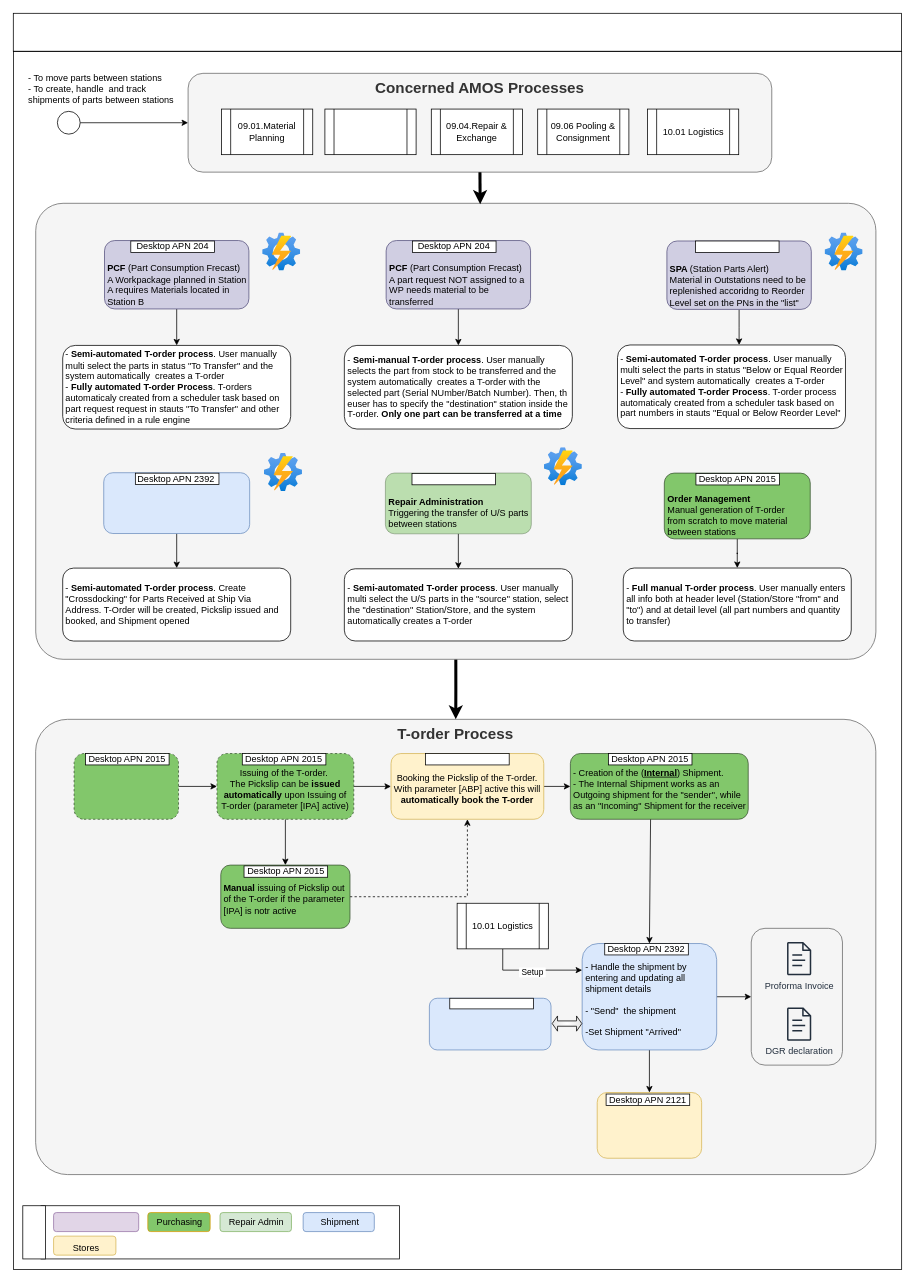
The diagram is 915 pixels wide and 1283 high, and some of its shapes have lost their labels. Each missing label, with the box of its shape:
09.03.Ordering: (324, 108, 416, 155)
09.07 Outstations & MRO's: (13, 13, 902, 51)
Creation ot the T-order: (73, 753, 179, 819)
Desktop APN 1208: (449, 998, 533, 1009)
Desktop APN 1431: (411, 473, 496, 485)
Desktop APN 2612: (425, 753, 509, 765)
Desktop APN 313: (695, 240, 779, 252)
LEGEND: (22, 1205, 46, 1259)
Material Planning: (53, 1212, 139, 1232)
Receiving of T-order: (596, 1092, 702, 1158)
Shipment Tracking to track and get an overview of all shipments: (429, 998, 551, 1050)
Shipment Transfer of parts between stations received via "cross docking" process: (103, 472, 250, 534)
Start: (57, 111, 80, 134)
Use cases, trigger points and related APNs: (35, 203, 876, 659)
